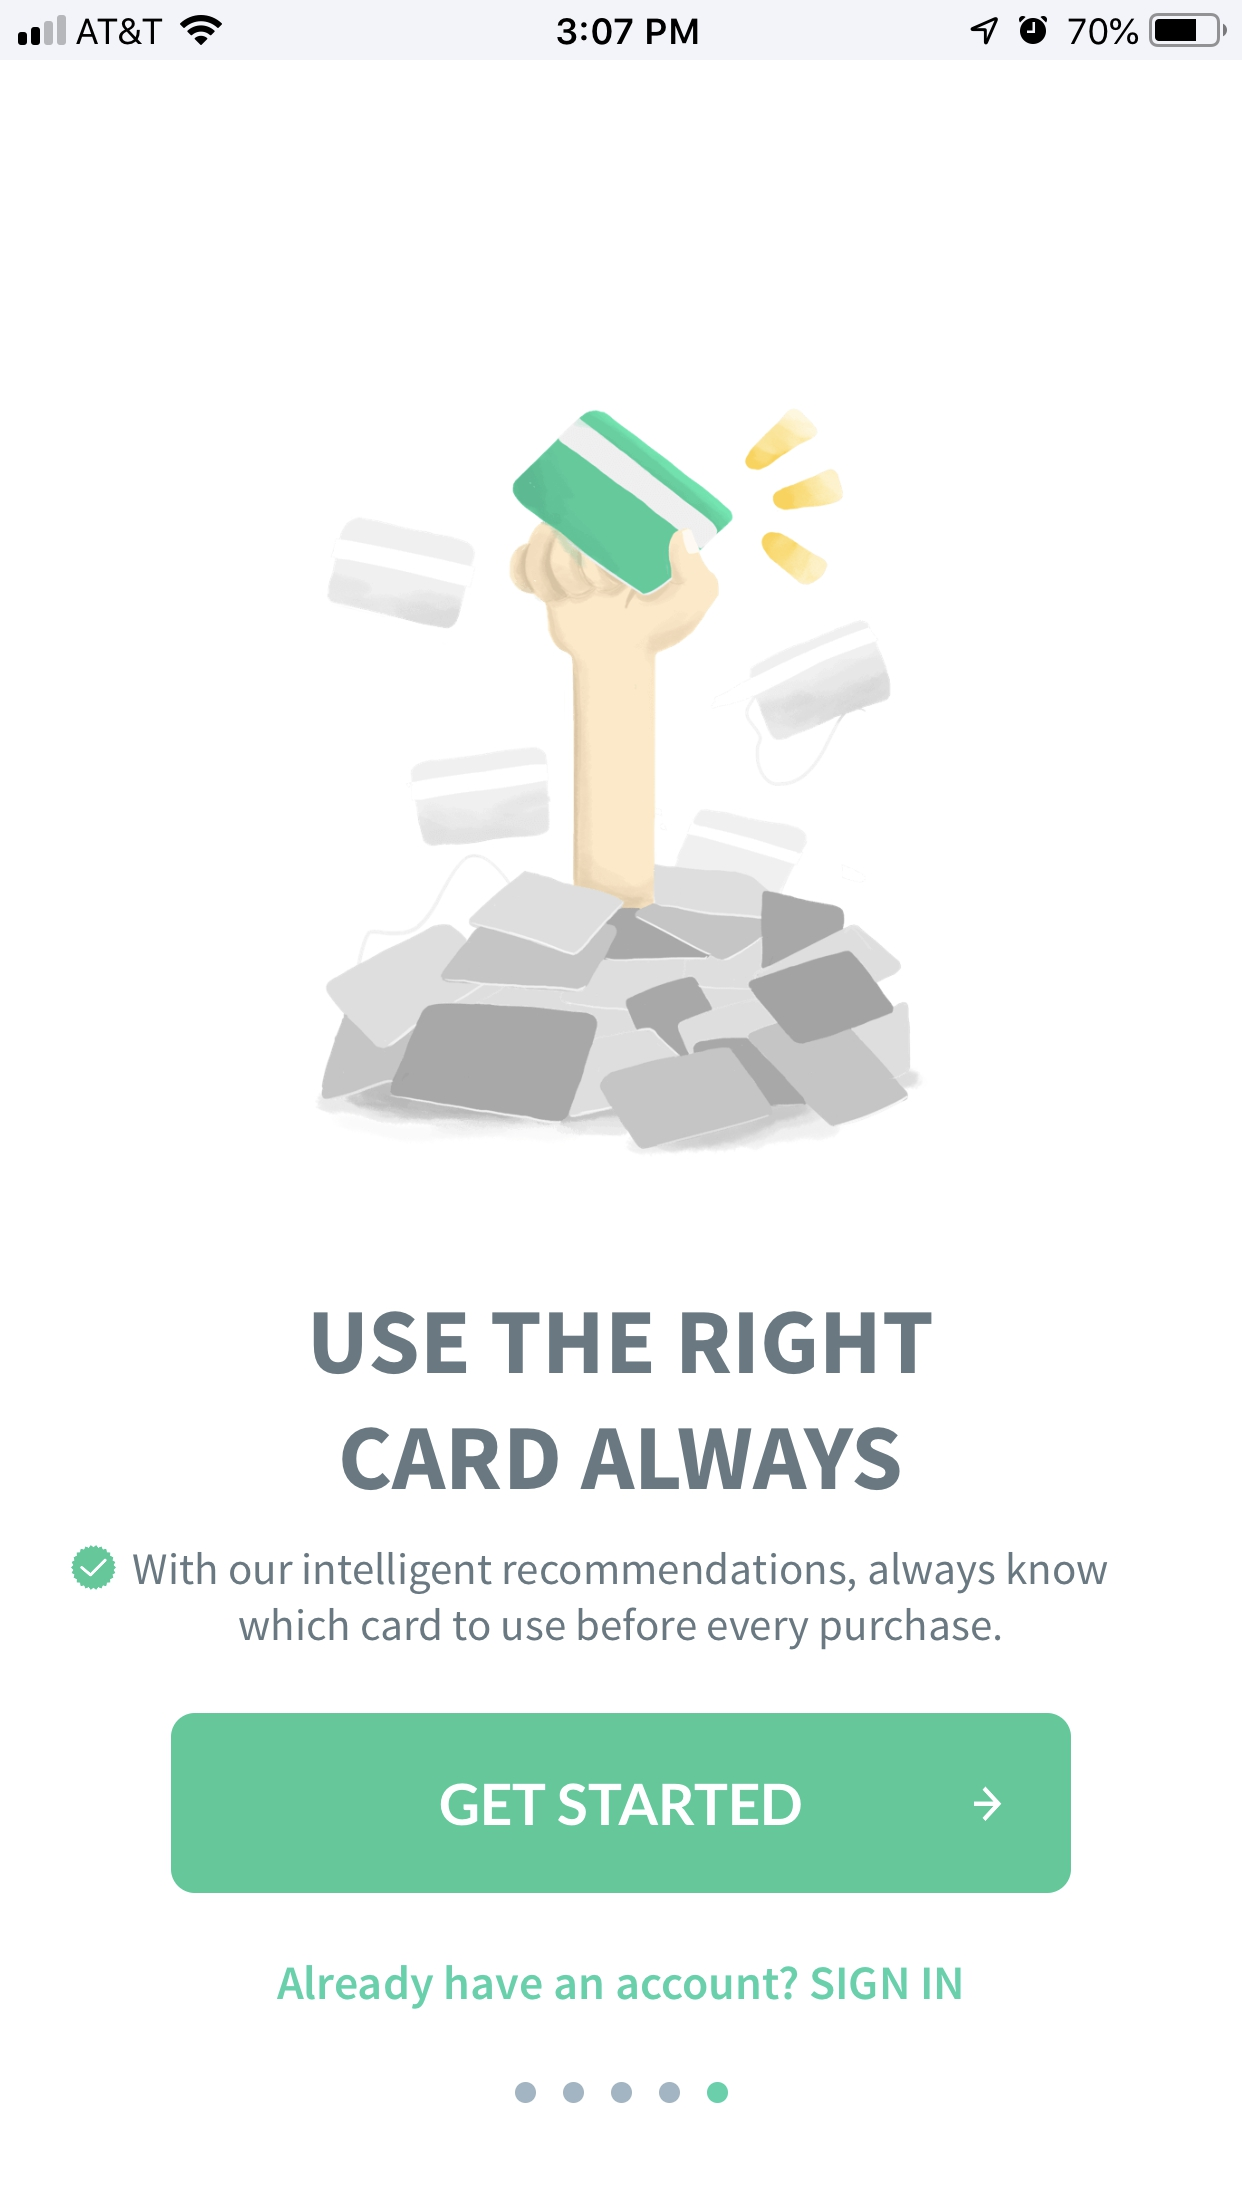Icon: (71, 1544, 117, 1591), (974, 1785, 1002, 1821)
Image: (315, 408, 925, 1156)
PageIndicator: (516, 2081, 729, 2103)
Text: (312, 1310, 933, 1492), (133, 1551, 1109, 1651), (278, 1964, 961, 2009)
TextButton: (171, 1712, 1072, 1894)
UpperTaskBar: (2, 2, 1242, 61)
